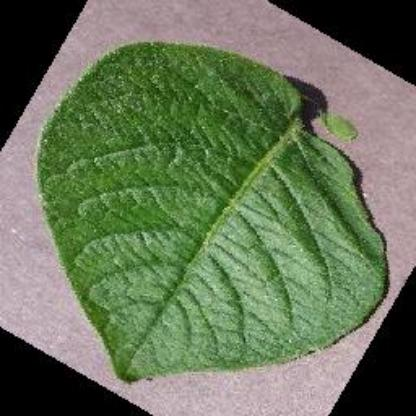Healthy-plant: (35, 33, 391, 387)
